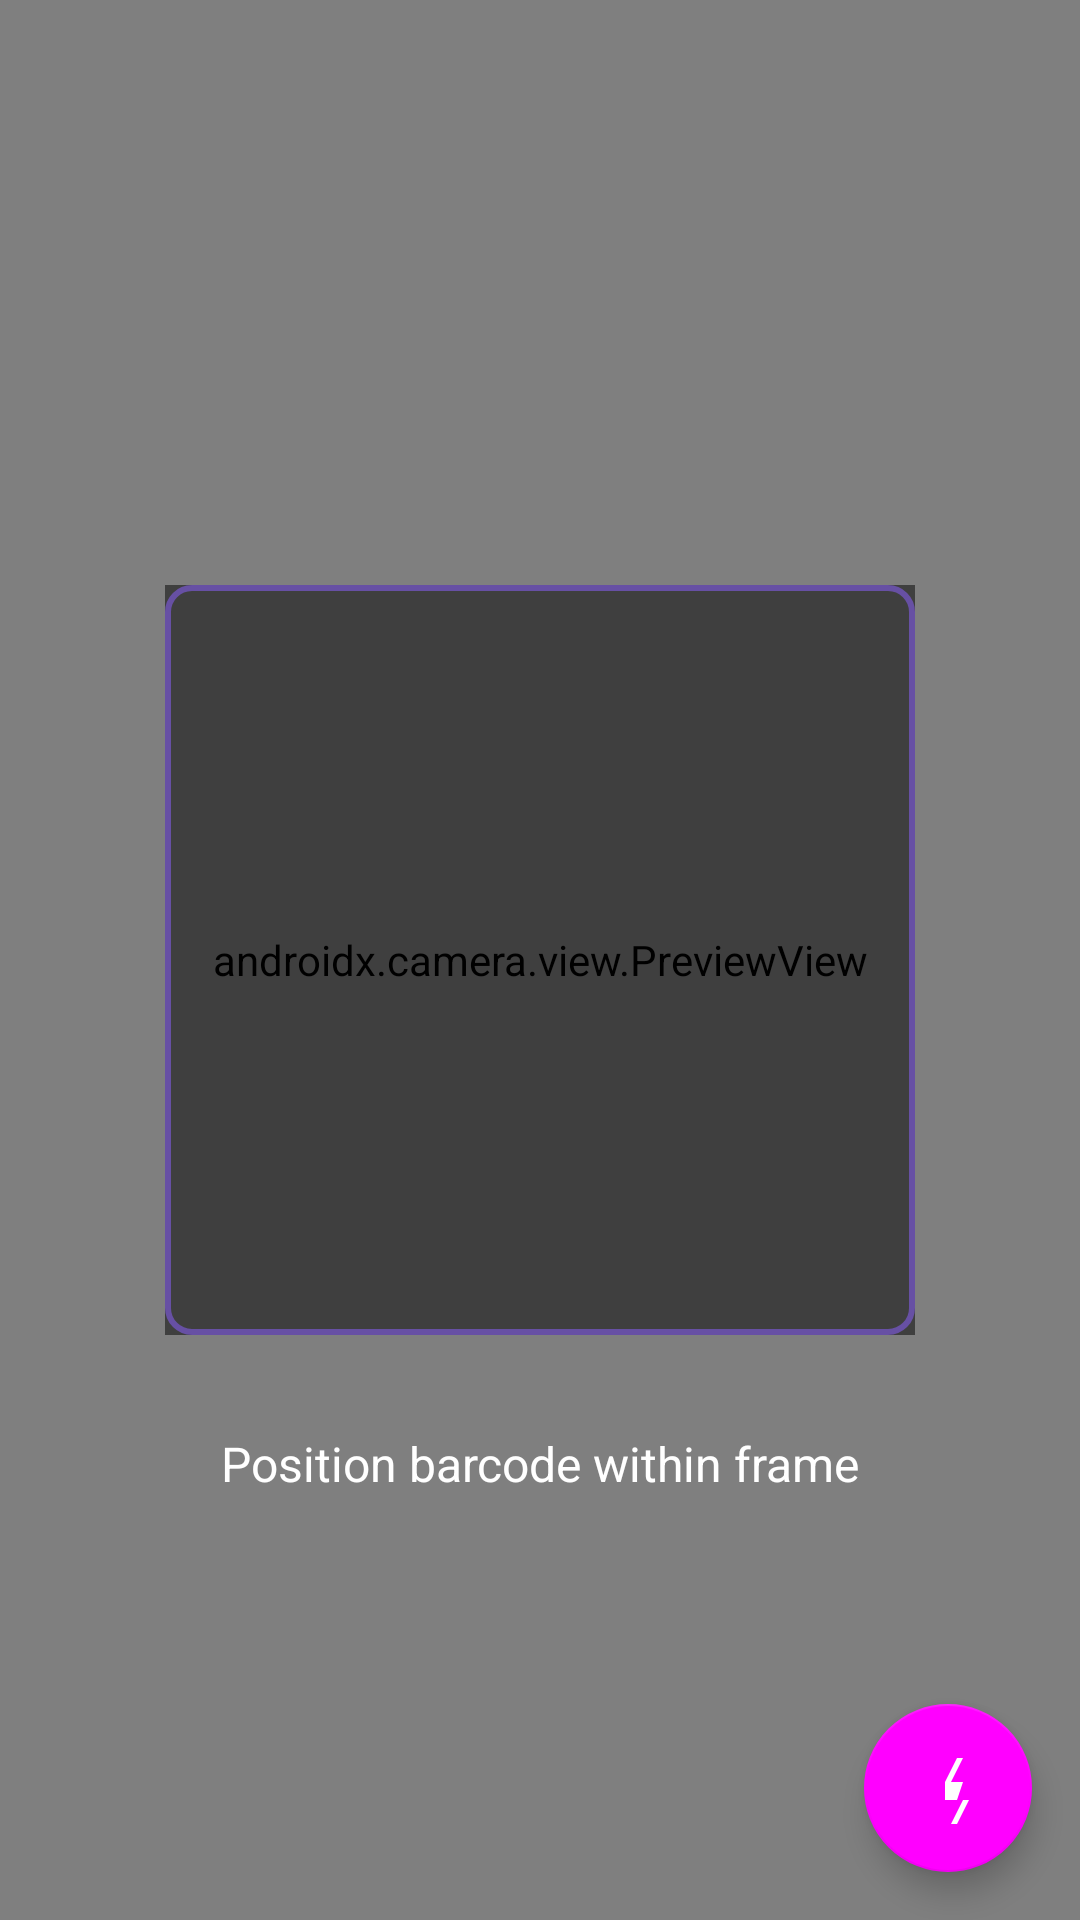

Icon bounding boxes for this 1080*1920 phone screenshot, format (x1, y1, x2, y2):
flash off: (864, 1704, 1032, 1872)
